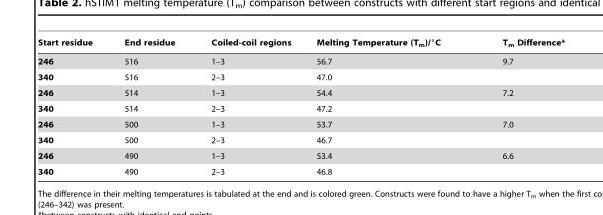table: (37, 36, 564, 175)
table column: (303, 36, 470, 175), (192, 36, 303, 175), (470, 36, 564, 175), (107, 36, 192, 175), (37, 36, 107, 175)
table column header: (37, 36, 564, 52)
table row: (37, 52, 564, 69), (37, 36, 564, 52), (37, 84, 564, 100), (37, 100, 564, 116), (37, 116, 564, 132), (37, 147, 564, 163), (37, 69, 564, 84), (37, 132, 564, 147), (37, 163, 564, 175)
